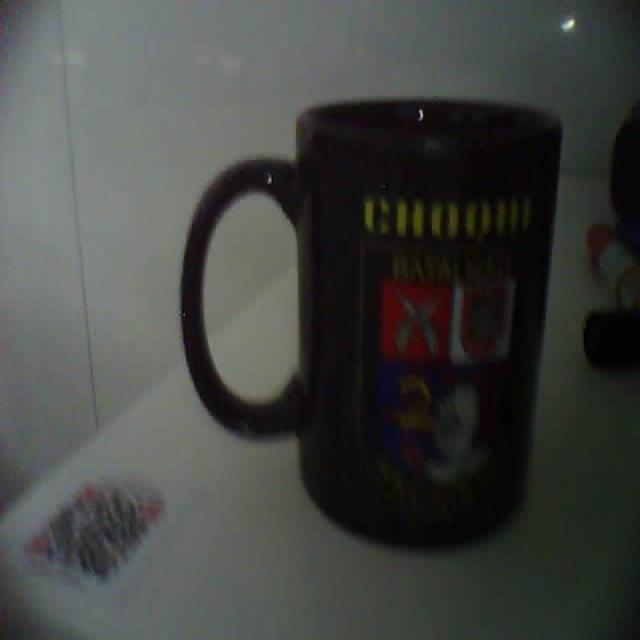caneca: (180, 99, 561, 545)
